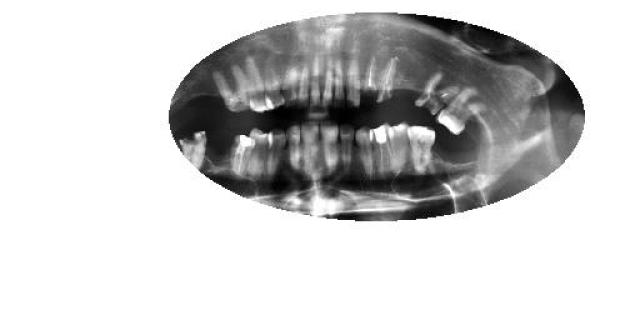Cavity: (212, 64, 252, 115), (414, 72, 460, 116), (180, 131, 208, 169), (377, 56, 398, 105), (345, 60, 361, 111), (362, 54, 378, 100)
Fillings: (408, 125, 440, 177)
Implant: (370, 122, 395, 178), (230, 134, 256, 176)
